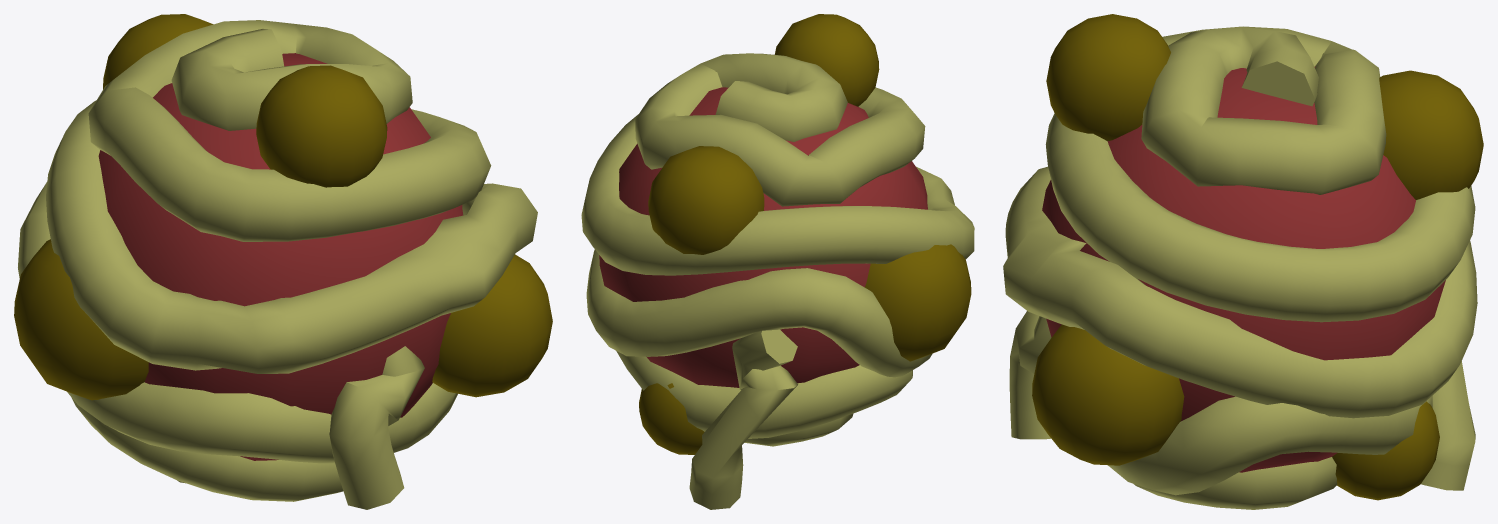
The model's file is small_bite_spaguetti_UV.fbx.
The picture shows the model from 3 angles, left to right: view 1: azimuth 30°, elevation 25°; view 2: azimuth 150°, elevation 25°; view 3: azimuth 270°, elevation 25°; orthographic projection. The views are drawn at different scales.
Visible parts, largest first — view 1: Noodle_01, Meatballs, Sauce, Noodle_03; view 2: Noodle_01, Meatballs, Sauce, Noodle_02; view 3: Noodle_01, Meatballs, Sauce, Noodle_02, Noodle_03.
Part boxes in pixels (left/top/right/bottom): Noodle_01: left=18, top=20, right=537, bottom=501; Meatballs: left=14, top=14, right=552, bottom=400; Sauce: left=98, top=53, right=463, bottom=460; Noodle_03: left=329, top=346, right=424, bottom=509; Noodle_01: left=581, top=53, right=974, bottom=446; Meatballs: left=639, top=14, right=971, bottom=454; Sauce: left=599, top=87, right=927, bottom=387; Noodle_02: left=689, top=329, right=797, bottom=509; Noodle_01: left=1003, top=26, right=1477, bottom=509; Meatballs: left=1032, top=14, right=1483, bottom=500; Sauce: left=1042, top=66, right=1445, bottom=472; Noodle_02: left=1421, top=361, right=1475, bottom=490; Noodle_03: left=1009, top=311, right=1051, bottom=439.
Size of the model in its own units: 594 by 590 by 535.
